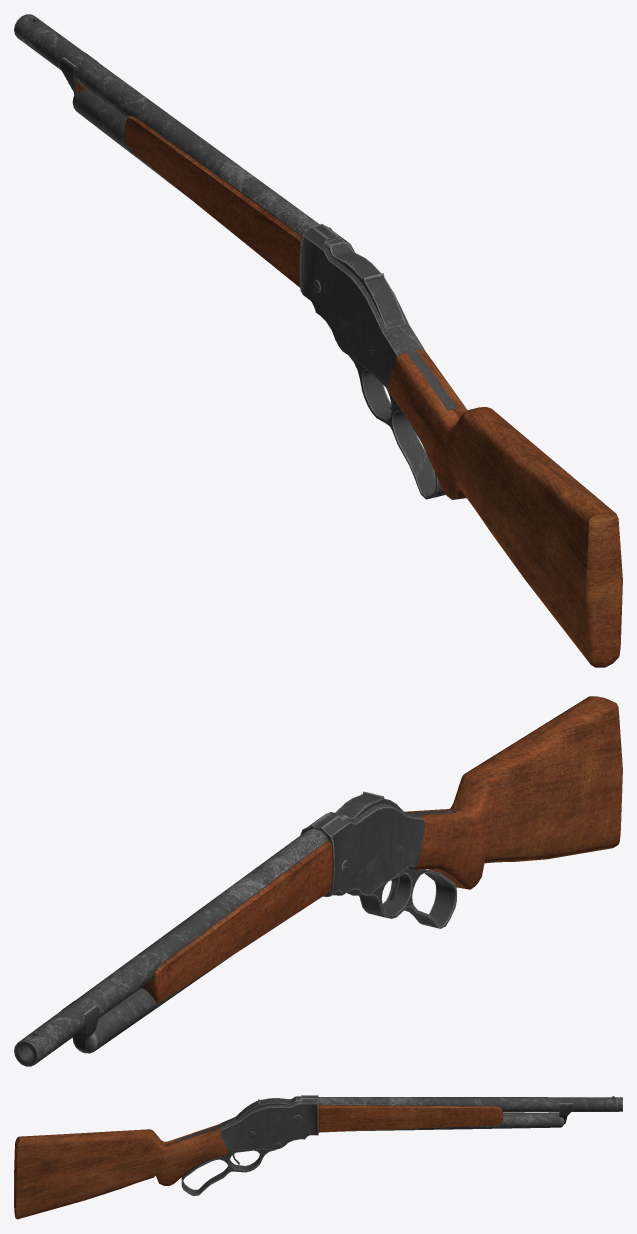
File: Win1887.fbx
3 views of the same model, one above another, from view 1: azimuth 30°, elevation 25°; view 2: azimuth 150°, elevation 25°; view 3: azimuth 270°, elevation 25° (orthographic). The views are drawn at different scales.
Parts seen in each view (by area): view 1: Plane, Cylinder.001, Plane.001, Cylinder; view 2: Plane, Cylinder.001, Plane.001, Cylinder, Cube; view 3: Plane, Cylinder.001, Plane.001, Cylinder, Cube.
Part boxes in pixels (x1,y1,x2,y2): Plane: (125, 115, 622, 667); Cylinder.001: (14, 14, 319, 236); Plane.001: (324, 238, 445, 499); Cylinder: (72, 88, 187, 196); Plane: (141, 696, 622, 1002); Cylinder.001: (14, 828, 328, 1066); Plane.001: (329, 791, 456, 928); Cylinder: (72, 959, 226, 1053); Cube: (61, 1000, 99, 1050); Plane: (14, 1095, 502, 1219); Cylinder.001: (318, 1097, 622, 1112); Plane.001: (181, 1096, 300, 1195); Cylinder: (353, 1112, 564, 1131); Cube: (559, 1103, 572, 1123).
Size of the model in its own units: 18.11 by 107 by 483.
Materials: 1 (1 with a texture image).
